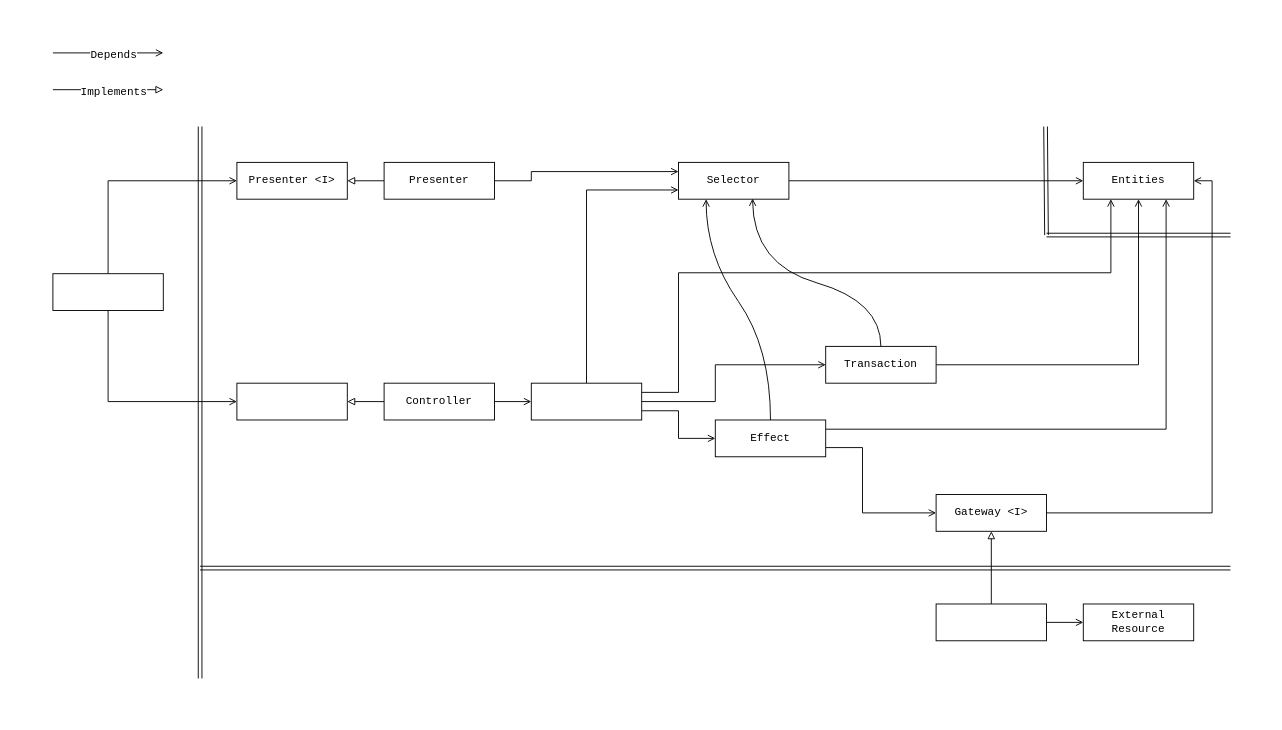
Image size: 1282x730. Some labels were removed from this diagram. Here are the shapes that lost their labels. From the top down, the centre of each, then its label:
the point at 107,291: User Interface
the point at 291,401: Controller <I>
the point at 586,401: Use Case Interactor
the point at 990,622: Gateway
